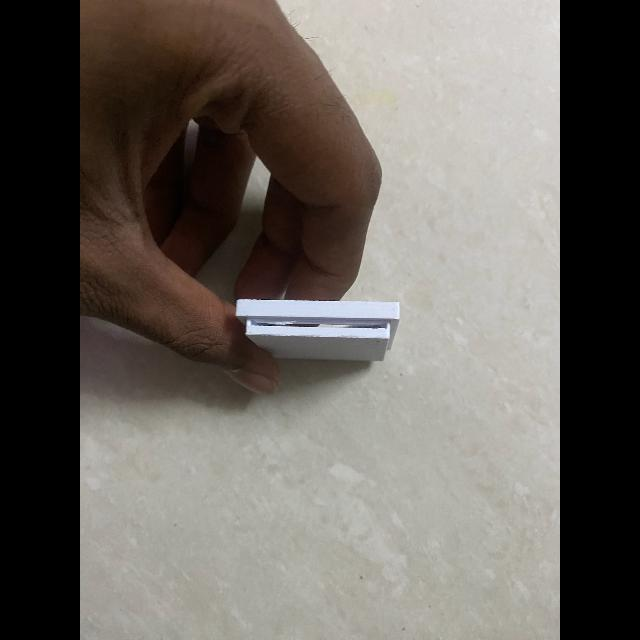RASPBERY PI CAM ENCLOSURE: (236, 300, 400, 362)
